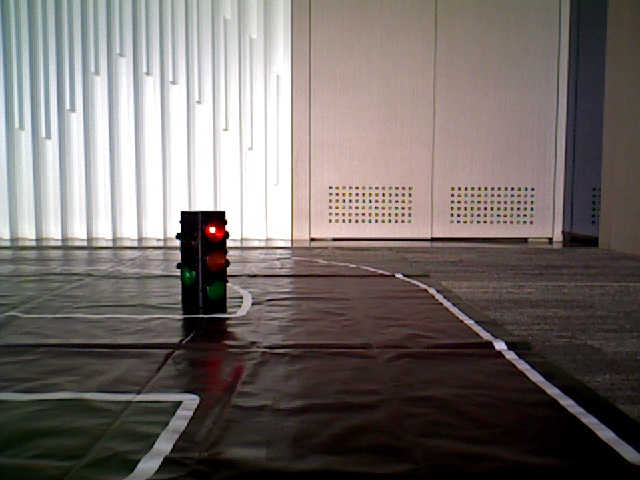red: (189, 215, 227, 293)
